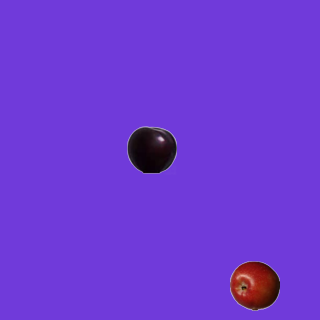Apple Braeburn: (229, 260, 279, 310)
Cherry Wax Black: (126, 124, 176, 174)
